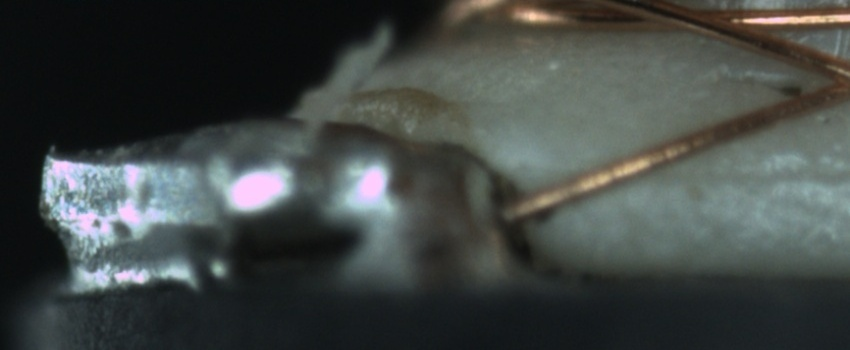DL: (641, 139, 850, 211)
